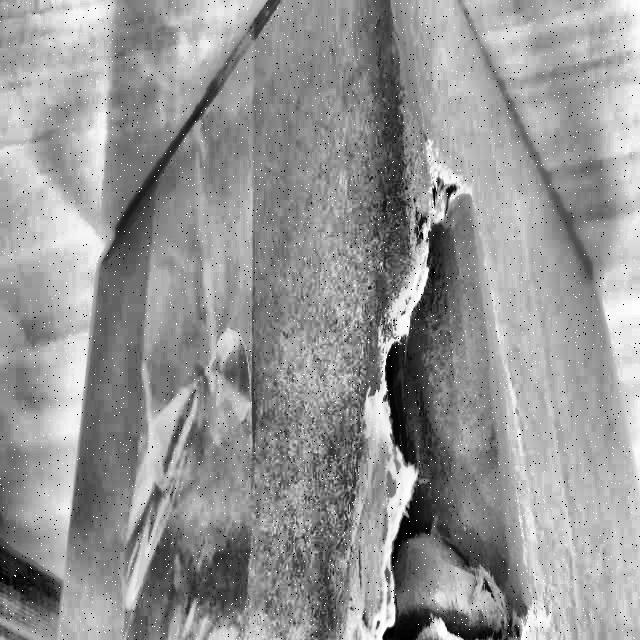box: (53, 1, 640, 640)
hole: (364, 150, 526, 636)
